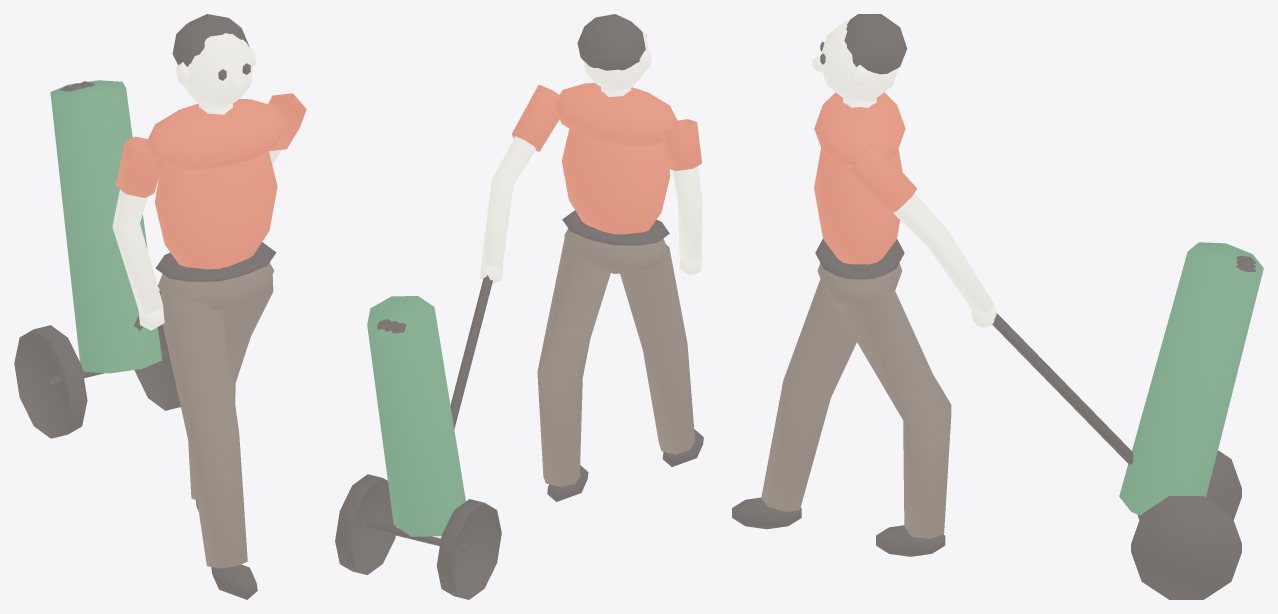
File: Blender_Walker_3.glb
3 views of the same model, side by side, from view 1: azimuth 30°, elevation 25°; view 2: azimuth 150°, elevation 25°; view 3: azimuth 270°, elevation 25° (orthographic). The views are drawn at different scales.
Parts seen in each view (by area): view 1: Blender_Walker_3; view 2: Blender_Walker_3; view 3: Blender_Walker_3.
Boxes of the visible parts, x1=… form: Blender_Walker_3: x1=14, y1=14, x2=306, y2=599; Blender_Walker_3: x1=335, y1=14, x2=703, y2=599; Blender_Walker_3: x1=732, y1=14, x2=1263, y2=599.
Size of the model in its own units: 0.7688 by 1.78 by 1.63.
